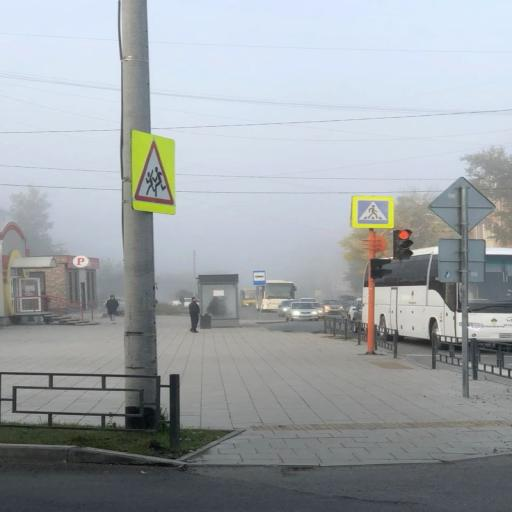bicycle: (195, 273, 241, 330)
elevator: (118, 0, 158, 428)
pole: (394, 228, 414, 260)
